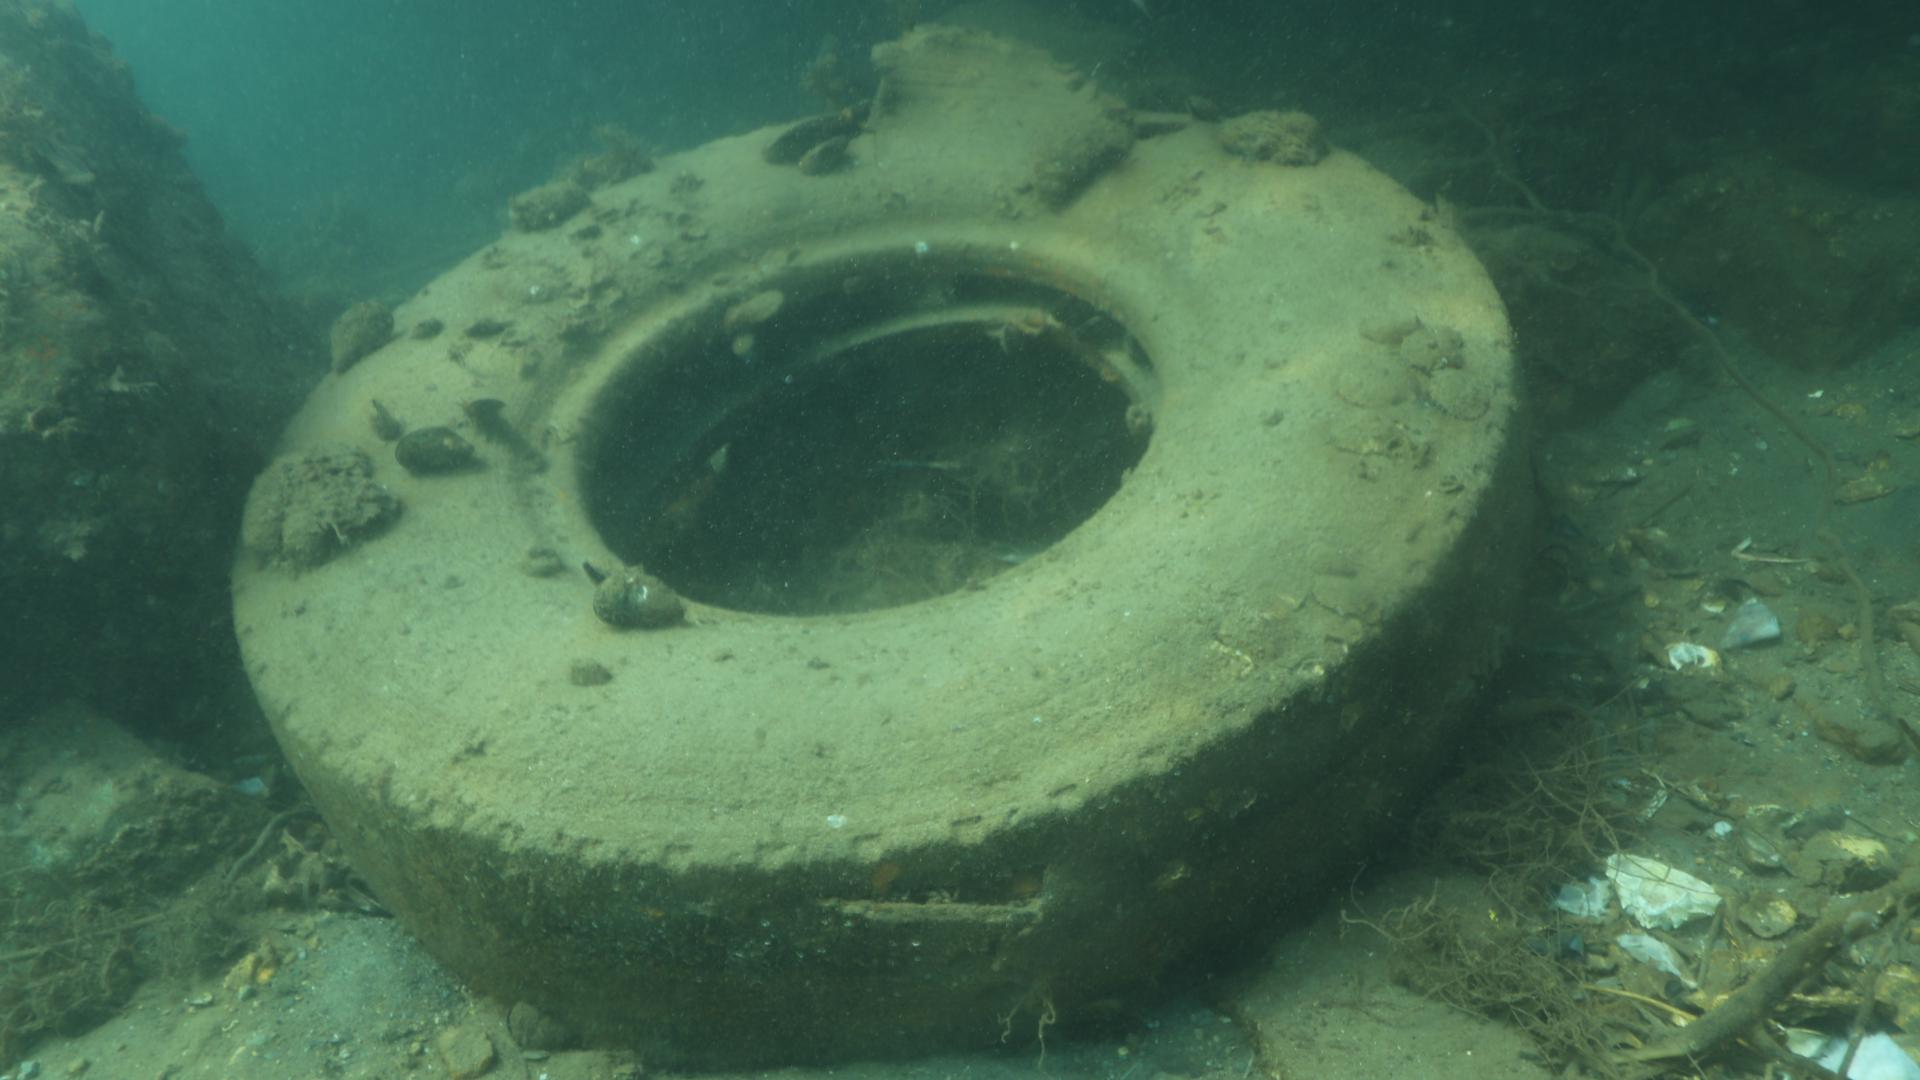tire: (229, 87, 1530, 1065)
